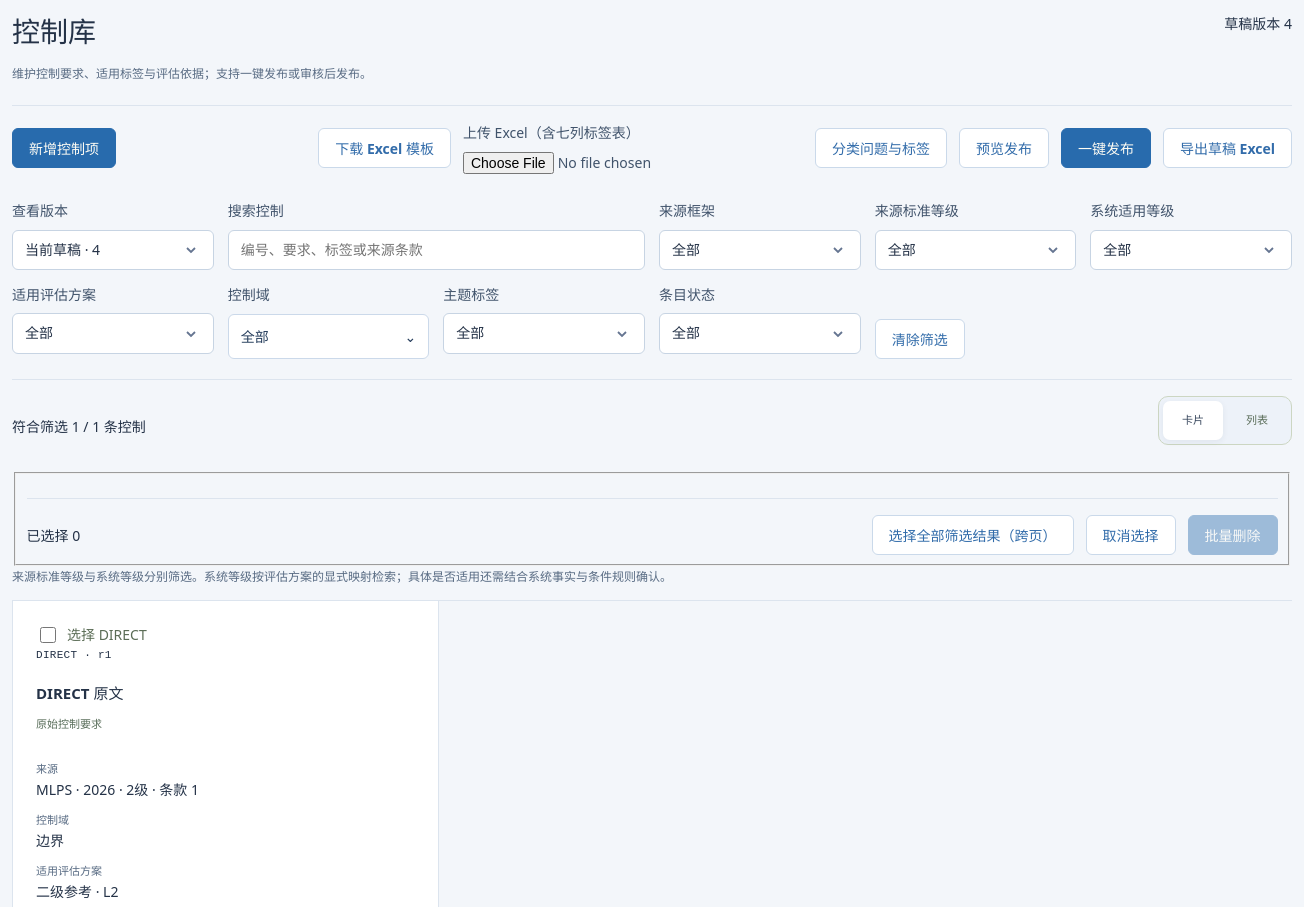
it: publishes unreviewed controls directly with one explicit click
Click the button "一键发布" at (1106, 148), box [1061,128,1151,168]
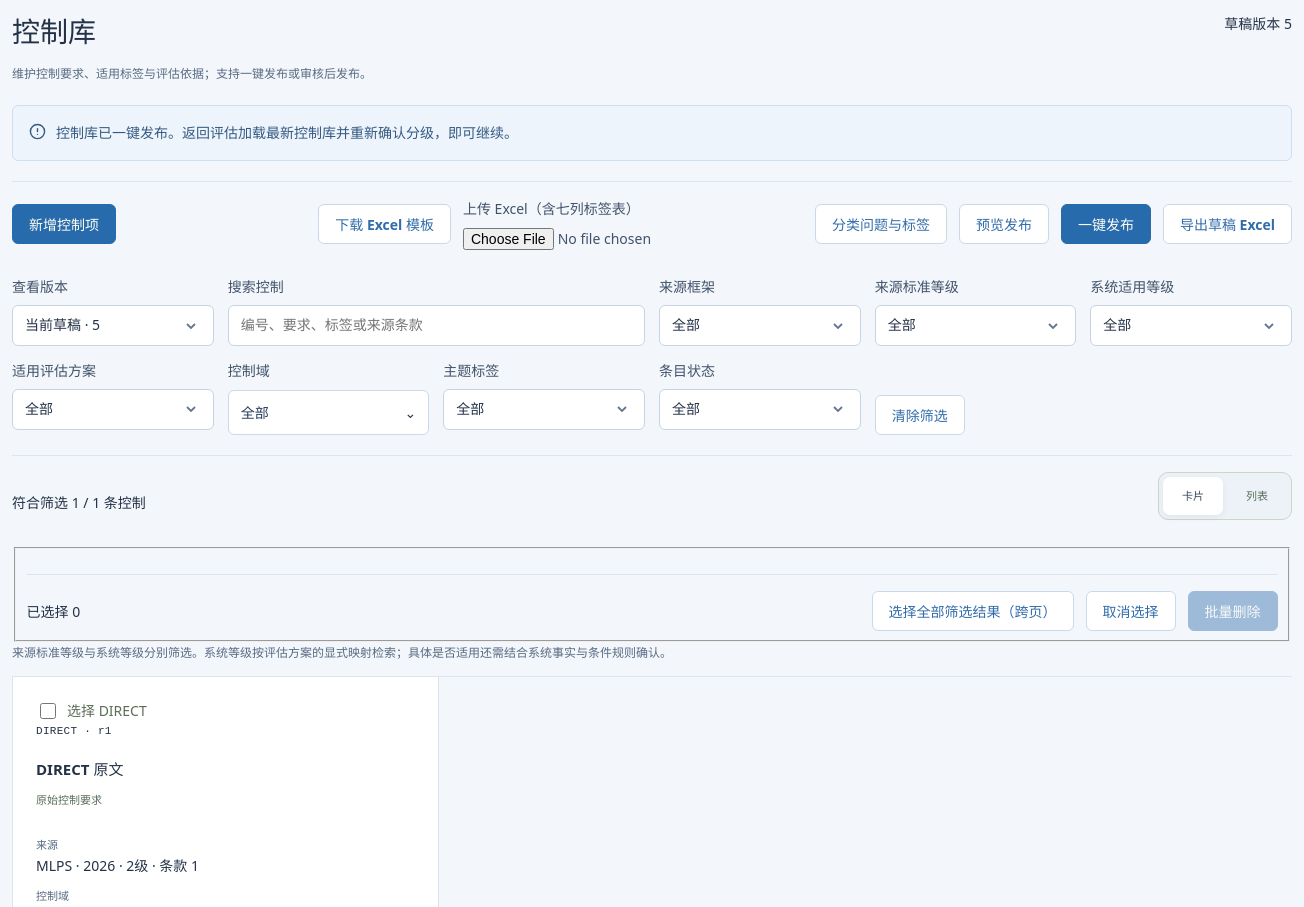
Now the text "控制库已一键发布。返回评估加载最新控制库并重新确认分级，即可继续。" is shown, box [56,120,518,146]
